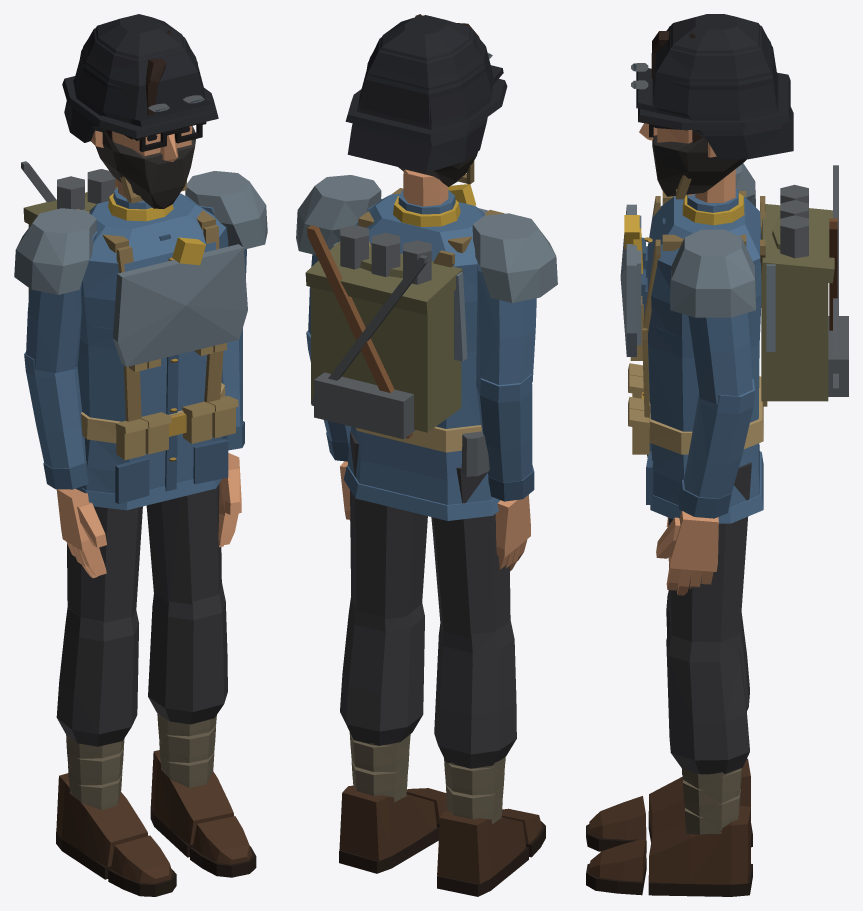
The model's file is soldier.glb.
3 views of the same model, side by side, from view 1: azimuth 30°, elevation 25°; view 2: azimuth 150°, elevation 25°; view 3: azimuth 270°, elevation 25° (orthographic). The views are drawn at different scales.
Parts seen in each view (by area): view 1: kit_armor_chest, hat_imp_helmet, pants_shin_R, pants_shin_L, top_tunic_chest, pants_P02_thigh_L, top_tunic_waist, pants_P02_thigh_R, kit_armor_pauldron_R, top_tunic_skirt, top_tunic_forearm_R, shoes_boot_upper_R (+28 smaller); view 2: kit_pack_engineer, hat_imp_helmet, pants_shin_R, pants_shin_L, top_tunic_skirt, pants_P02_thigh_R, pants_P02_thigh_L, hat_fed_helmet, kit_tools_engineer, kit_armor_pauldron_R, shoes_boot_upper_L, top_tunic_sleeve_R (+23 smaller); view 3: hat_imp_helmet, kit_pack_engineer, pants_shin_L, top_tunic_chest, kit_armor_pauldron_L, pants_P02_thigh_L, shoes_boot_upper_L, top_tunic_forearm_L, hat_fed_helmet, top_tunic_sleeve_L, top_tunic_waist, hand_L (+21 smaller).
Part boxes in pixels (x1,y1,x2,y2): kit_armor_chest: (113, 244, 247, 366); hat_imp_helmet: (64, 14, 214, 142); pants_shin_R: (56, 607, 138, 746); pants_shin_L: (148, 583, 227, 724); top_tunic_chest: (79, 188, 228, 361); pants_P02_thigh_L: (146, 484, 221, 604); top_tunic_waist: (77, 322, 207, 440); pants_P02_thigh_R: (67, 486, 142, 622); kit_armor_pauldron_R: (14, 208, 96, 294); top_tunic_skirt: (76, 433, 222, 510); top_tunic_forearm_R: (24, 352, 85, 467); shoes_boot_upper_R: (56, 773, 148, 866); kit_pack_engineer: (305, 241, 462, 432); hat_imp_helmet: (347, 15, 503, 173); pants_shin_R: (434, 621, 516, 768); pants_shin_L: (340, 597, 424, 745); top_tunic_skirt: (343, 426, 500, 520); pants_P02_thigh_R: (431, 467, 510, 638); pants_P02_thigh_L: (350, 431, 427, 619); hat_fed_helmet: (345, 29, 507, 142); kit_tools_engineer: (311, 255, 427, 439); kit_armor_pauldron_R: (472, 213, 557, 302); shoes_boot_upper_L: (339, 785, 436, 860); top_tunic_sleeve_R: (476, 261, 536, 384); hat_imp_helmet: (636, 14, 793, 159); kit_pack_engineer: (761, 204, 834, 401); pants_shin_L: (666, 624, 749, 774); top_tunic_chest: (647, 188, 761, 369); kit_armor_pauldron_L: (670, 229, 755, 317); pants_P02_thigh_L: (668, 462, 751, 642); shoes_boot_upper_L: (648, 805, 750, 884); top_tunic_forearm_L: (684, 379, 754, 498); hat_fed_helmet: (638, 25, 790, 129); top_tunic_sleeve_L: (688, 313, 752, 404); top_tunic_waist: (648, 325, 760, 431); hand_L: (656, 511, 718, 595).
Bounding box in the file's own units: 0.5444 × 1.8 × 0.5094.
